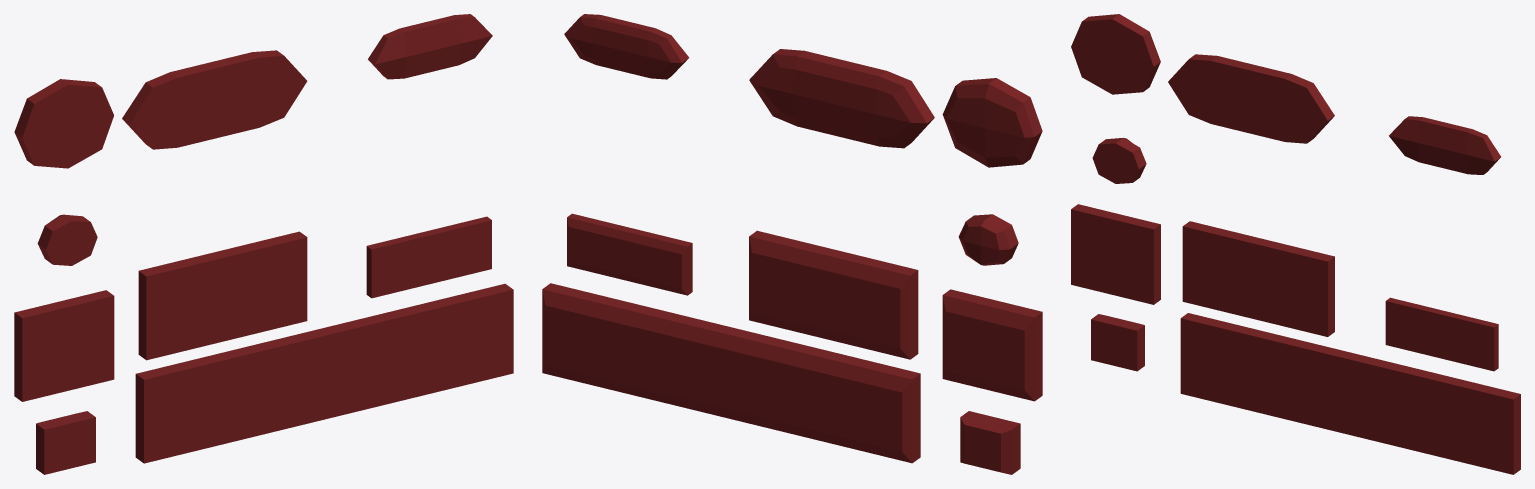
The model's file is MedievalUI.fbx_ExtraButtons.fbx.
3 views of the same model, side by side, from view 1: azimuth 30°, elevation 25°; view 2: azimuth 150°, elevation 25°; view 3: azimuth 330°, elevation 25° (orthographic). The views are drawn at different scales.
Parts seen in each view (by area): view 1: Button.009, Button.001, Button.004, Button.002, Button.005, Button.003, Button.006, Button.007, Button.008; view 2: Button.009, Button.001, Button.004, Button.002, Button.005, Button.003, Button.006, Button.007, Button.008; view 3: Button.009, Button.001, Button.004, Button.002, Button.005, Button.003, Button.006, Button.007, Button.008.
Part boxes in pixels (x1=…): Button.009: x1=135, y1=283, x2=513, y2=463; Button.001: x1=138, y1=231, x2=307, y2=360; Button.004: x1=122, y1=50, x2=307, y2=149; Button.002: x1=14, y1=290, x2=114, y2=401; Button.005: x1=366, y1=216, x2=491, y2=298; Button.003: x1=14, y1=79, x2=113, y2=168; Button.006: x1=368, y1=14, x2=492, y2=79; Button.007: x1=36, y1=411, x2=95, y2=474; Button.008: x1=37, y1=214, x2=97, y2=265; Button.009: x1=542, y1=283, x2=920, y2=463; Button.001: x1=749, y1=230, x2=918, y2=359; Button.004: x1=749, y1=49, x2=934, y2=148; Button.002: x1=942, y1=289, x2=1042, y2=401; Button.005: x1=567, y1=213, x2=692, y2=295; Button.003: x1=942, y1=78, x2=1042, y2=167; Button.006: x1=564, y1=14, x2=689, y2=79; Button.007: x1=960, y1=411, x2=1020, y2=474; Button.008: x1=958, y1=214, x2=1018, y2=265; Button.009: x1=1180, y1=313, x2=1520, y2=474; Button.001: x1=1182, y1=221, x2=1334, y2=336; Button.004: x1=1168, y1=54, x2=1334, y2=143; Button.002: x1=1071, y1=204, x2=1160, y2=304; Button.005: x1=1385, y1=297, x2=1498, y2=371; Button.003: x1=1071, y1=14, x2=1160, y2=94; Button.006: x1=1389, y1=116, x2=1500, y2=174; Button.007: x1=1091, y1=314, x2=1144, y2=371; Button.008: x1=1092, y1=137, x2=1146, y2=183.
Bounding box in the file's own units: 433 × 335 × 18.37.
